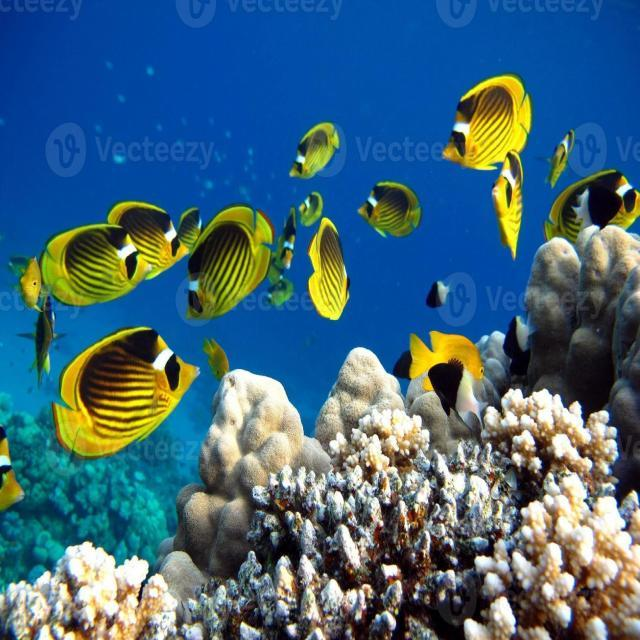ButterflyFish: (53, 327, 201, 455), (29, 221, 147, 305), (186, 205, 270, 316), (443, 73, 532, 176), (546, 170, 640, 243), (494, 151, 529, 264), (313, 218, 350, 322), (359, 180, 422, 241), (295, 122, 341, 177), (298, 193, 325, 228)
